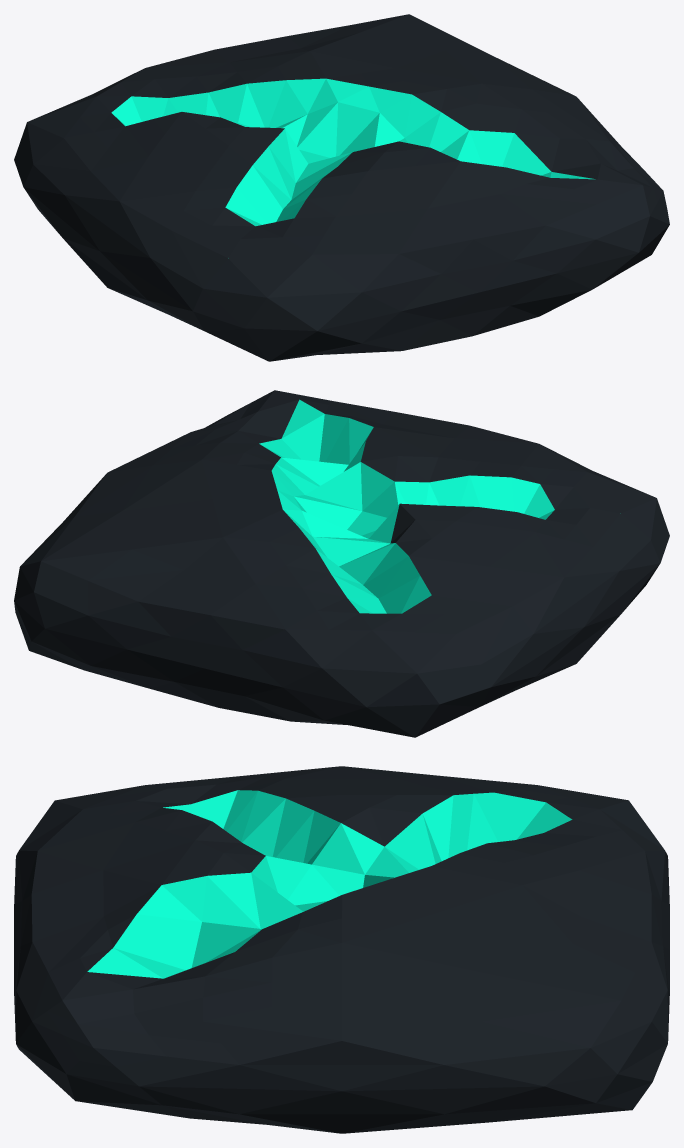
Rendered from aRune_5.fbx.
3 views of the same model, one above another, from view 1: azimuth 30°, elevation 25°; view 2: azimuth 150°, elevation 25°; view 3: azimuth 270°, elevation 25° (orthographic). The views are drawn at different scales.
Parts seen in each view (by area): view 1: Icosphere; view 2: Icosphere; view 3: Icosphere.
Part boxes in pixels (box(x1,y1,x2,y2)): Icosphere: box(14, 14, 669, 361); Icosphere: box(14, 390, 669, 737); Icosphere: box(14, 766, 669, 1133).
Size of the model in its own units: 182 by 60.35 by 178.
1 material, 1 textured.
